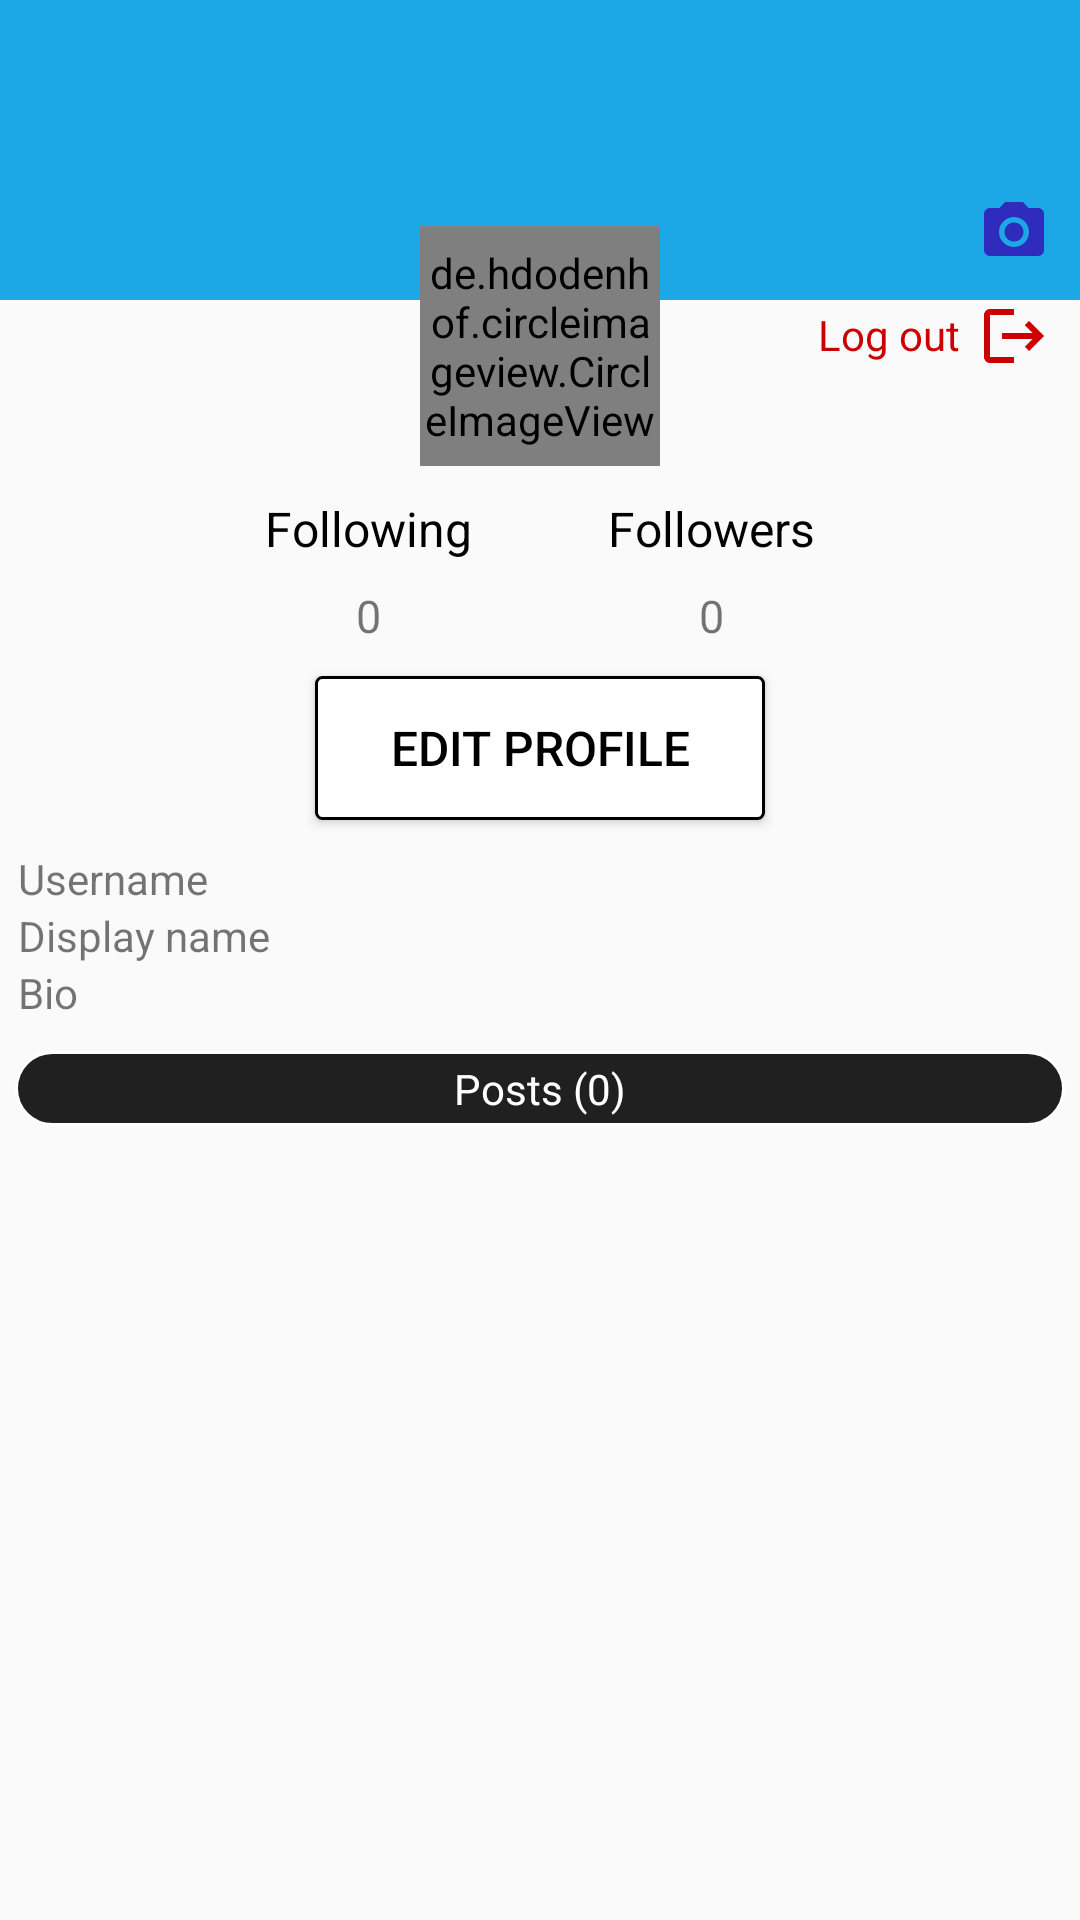

Icons on this 1080px x 1920px Android screen, each with the point to tap as (x,y):
camera: (1014,229)
